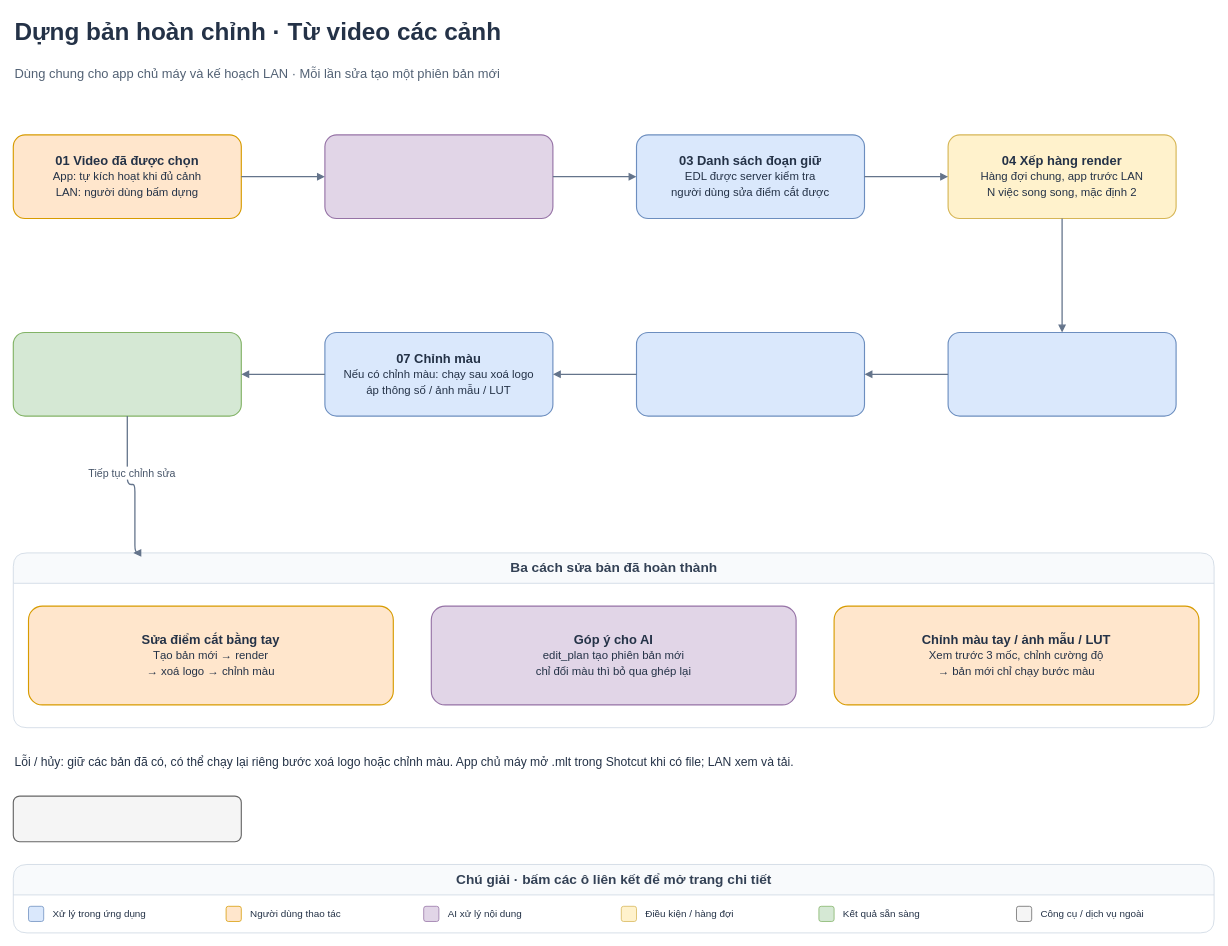
Some shapes in this 1228 by 946 pixel diagram are drawn without their labels. The shapes that lost their labels are listed below. From the top down, each one's centre as x and y in pixels, then its label:
the point at 438,176: 02 AI chọn điểm cắt edit_plan xem prompt, góp ý và lưới khung hình từng cảnh
the point at 127,374: 08 Bản hoàn chỉnh vN MP4 · ảnh xem trước lịch sử phiên bản
the point at 750,374: 06 Xoá logo Veo Chạy sau ghép nếu công cụ bật giữ bản raw để khôi phục
the point at 1061,374: 05 Ghép các đoạn Shotcut MCP hoặc ffmpeg cắt thẳng, giữ âm thanh
the point at 127,818: ← Tổng quan 09/11/2026 · Theo mã hiện tại
